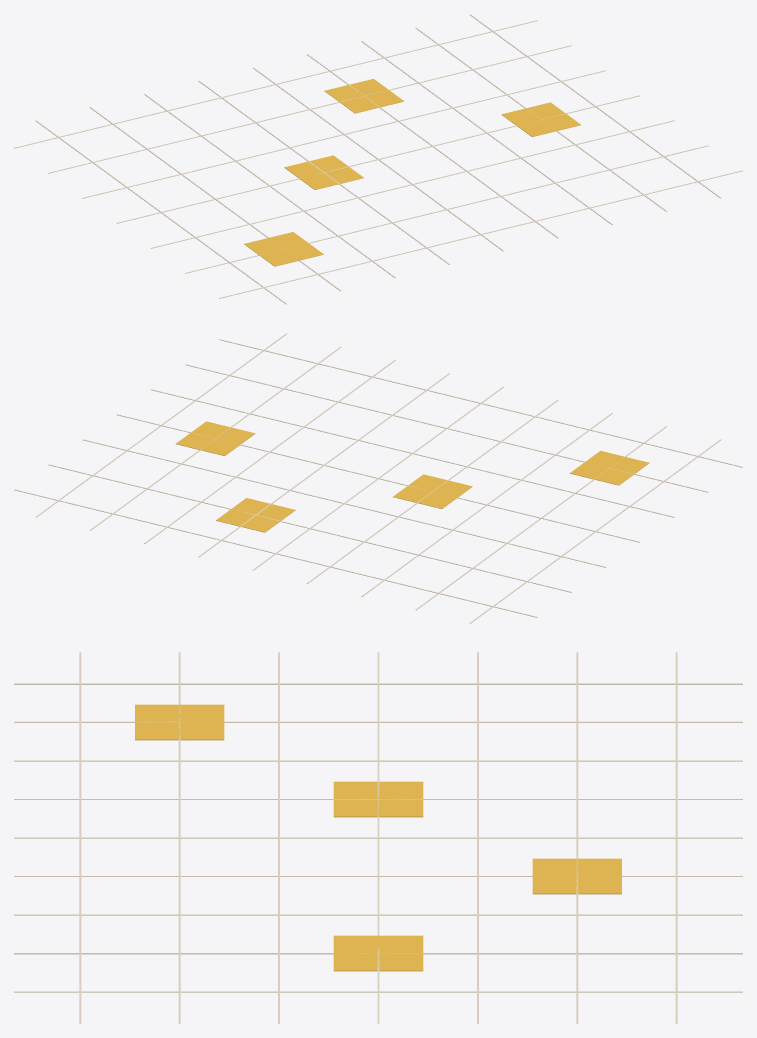
3 views of the same model, one above another, from view 1: azimuth 30°, elevation 25°; view 2: azimuth 150°, elevation 25°; view 3: azimuth 270°, elevation 25° (orthographic). The views are drawn at different scales.
Visible parts, largest first — view 1: Geometric color tile, Geometric color tile.002, Geometric color tile.003, Geometric color tile.001, Grout Y.004, Grout Y.006, Grout Y, Grout Y.002, Grout Y.005, Grout Y.001, Grout Y.003, Grout X.008 (+7 smaller); view 2: Geometric color tile, Geometric color tile.001, Geometric color tile.003, Geometric color tile.002, Grout Y.002, Grout Y.006, Grout Y, Grout Y.004, Grout Y.005, Grout Y.001, Grout Y.003, Grout X.008 (+8 smaller); view 3: Geometric color tile.001, Geometric color tile.003, Geometric color tile, Geometric color tile.002, Grout X.008, Grout X, Grout X.002, Grout X.004, Grout X.006, Grout X.001, Grout X.007, Grout Y (+8 smaller).
Boxes of the visible parts, x1,y1,x2,y2 form: Geometric color tile: (244,232,323,266); Geometric color tile.002: (324,79,404,113); Geometric color tile.003: (501,102,580,136); Geometric color tile.001: (284,155,363,189); Grout Y.004: (82,70,605,198); Grout Y.006: (14,20,537,148); Grout Y: (219,170,742,298); Grout Y.002: (151,120,674,248); Grout Y.005: (48,45,571,173); Grout Y.001: (185,145,708,273); Grout Y.003: (117,95,639,223); Grout X.008: (470,14,721,198); Geometric color tile: (569,450,649,485); Geometric color tile.001: (393,474,472,508); Geometric color tile.003: (176,421,255,455); Geometric color tile.002: (216,498,295,532); Grout Y.002: (151,389,674,517); Grout Y.006: (14,489,537,617); Grout Y: (219,339,742,467); Grout Y.004: (82,439,605,567); Grout Y.005: (48,464,571,592); Grout Y.001: (185,364,708,492); Grout Y.003: (117,414,639,542); Grout X.008: (35,333,286,517); Geometric color tile.001: (333,781,423,817); Geometric color tile.003: (333,935,423,971); Geometric color tile: (135,704,224,740); Geometric color tile.002: (532,858,621,894); Grout X.008: (14,991,742,992); Grout X: (14,683,742,684); Grout X.002: (14,760,742,761); Grout X.004: (14,837,742,838); Grout X.006: (14,914,742,915); Grout X.001: (14,721,742,722); Grout X.007: (14,953,742,954); Grout Y: (79,652,81,1023).
Bounding box in the file's own units: 5.3 × 0.003 × 4.4.
1 material, 1 textured.
